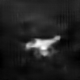plane: (22, 33, 62, 59)
